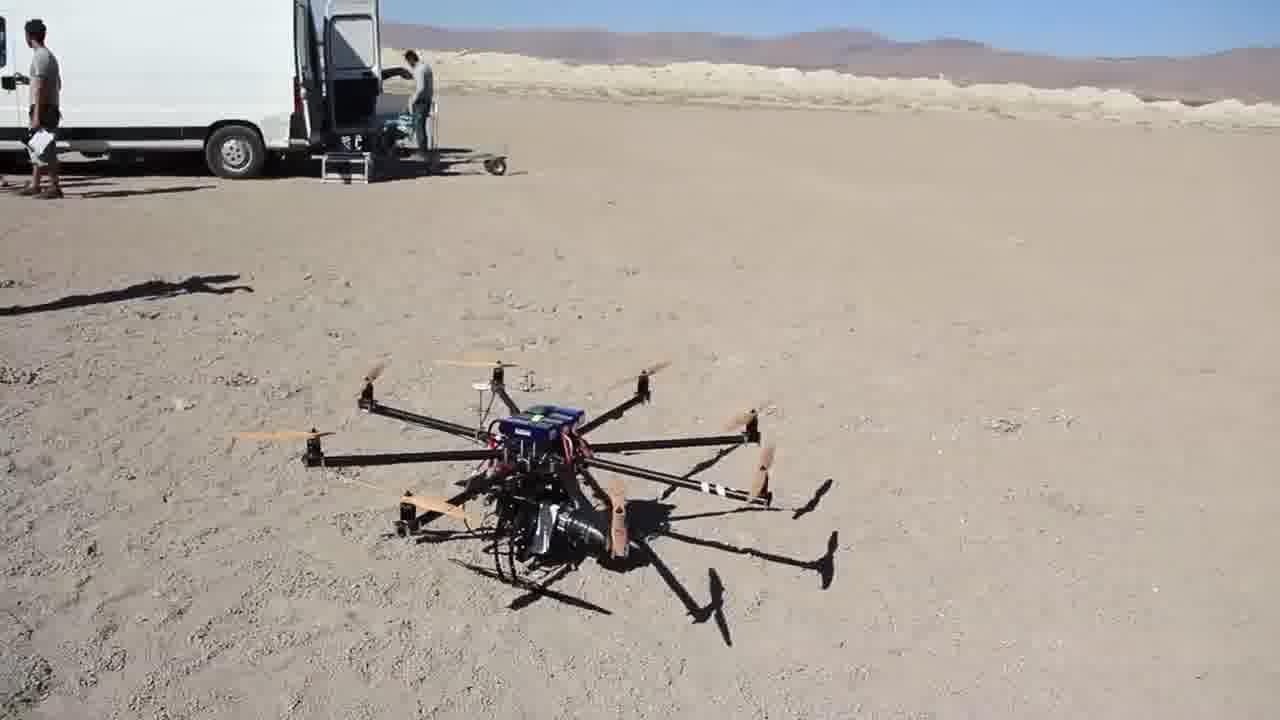drone: (288, 349, 789, 584)
